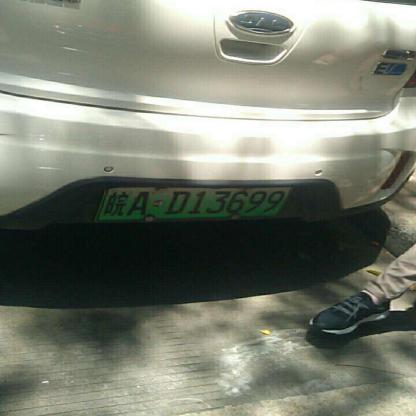lp: (98, 187, 291, 218)
